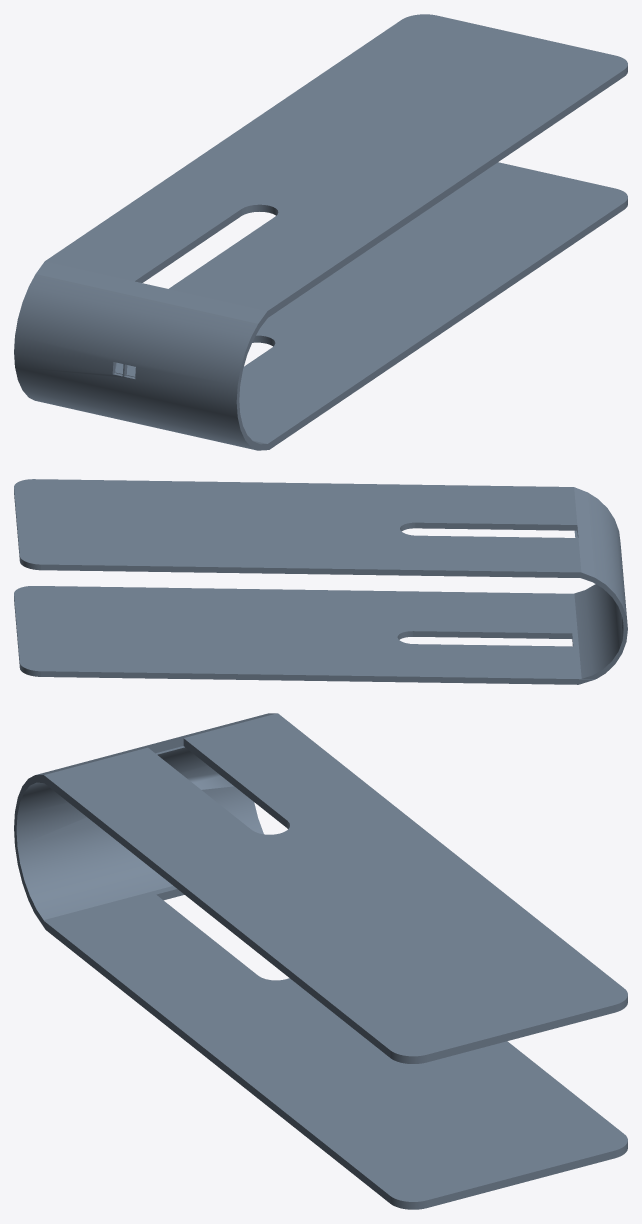
File: original-1.obj
3 views of the same model, one above another, from view 1: azimuth 30°, elevation 25°; view 2: azimuth 150°, elevation 25°; view 3: azimuth 270°, elevation 25° (orthographic). The views are drawn at different scales.
Visible parts, largest first — view 1: Group1/mesh1/mesh1-geometry#mesh1-geometry; view 2: Group1/mesh1/mesh1-geometry#mesh1-geometry; view 3: Group1/mesh1/mesh1-geometry#mesh1-geometry.
Part boxes in pixels (x1,y1,x2,y2): Group1/mesh1/mesh1-geometry#mesh1-geometry: [14, 14, 627, 450]; Group1/mesh1/mesh1-geometry#mesh1-geometry: [14, 479, 627, 684]; Group1/mesh1/mesh1-geometry#mesh1-geometry: [14, 713, 627, 1209].
Size of the model in its own units: 1.48 by 0.2882 by 1.05.
